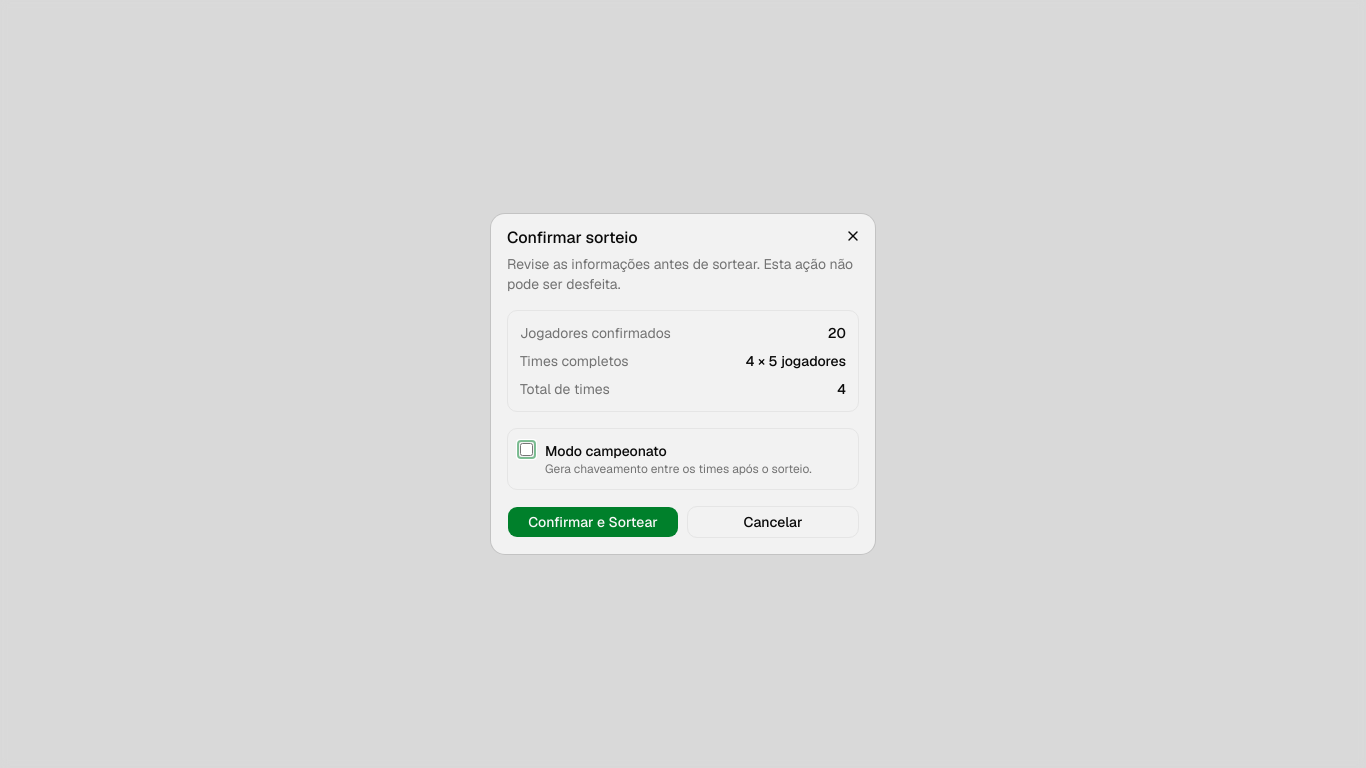
Scenario: DrawModal › submission › shows error message on failure
What coordinates should you click on to do the following:
click the button "Confirmar e Sortear"
I would click on:
 (593, 522)
Its box is [507, 506, 679, 538].
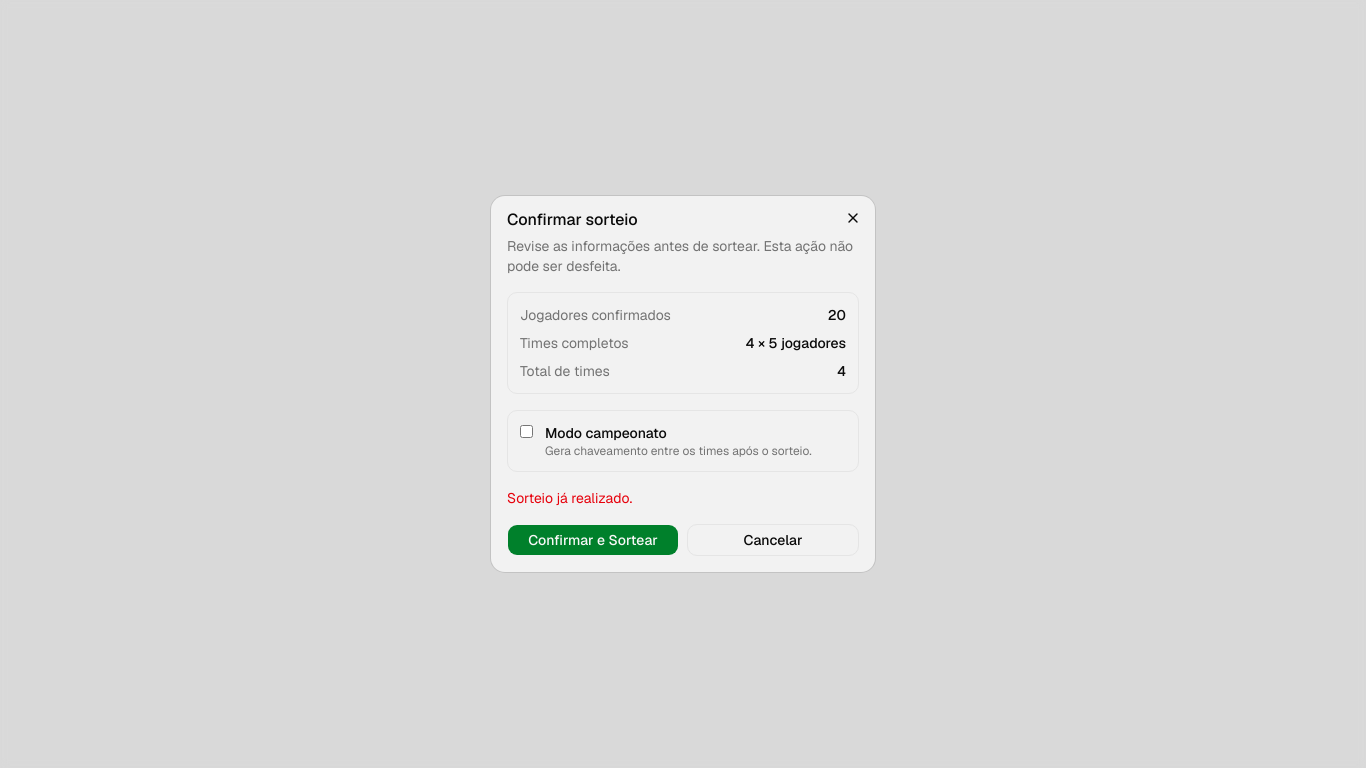
Expected: the text "Sorteio já realizado." is shown, [507, 489, 632, 507]
